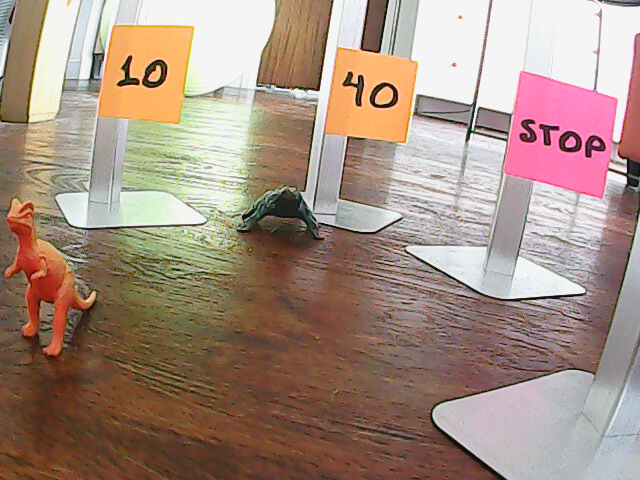10: (112, 30, 177, 118)
40: (335, 55, 411, 137)
dinosaur: (4, 196, 97, 362)
stop: (520, 86, 607, 180)
turtle: (235, 183, 330, 247)
